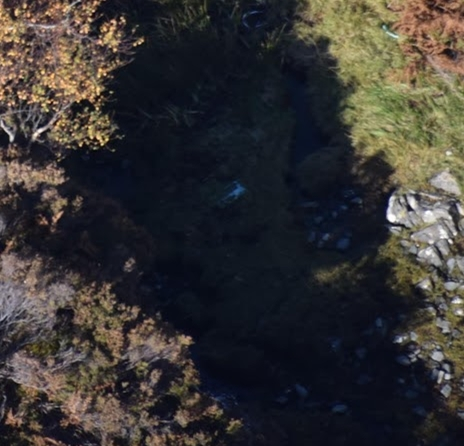white_in_green: (209, 163, 268, 220)
